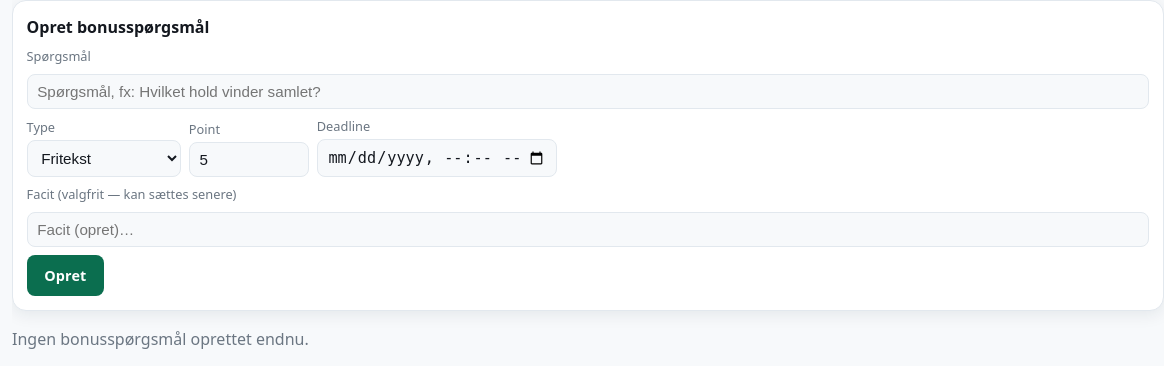
Scenario: BonusTab › skifter facit-input til tal ved type number
Select "Tal" in the dropdown with test id "bonus-new-type": (104, 159) [27, 140, 181, 177]
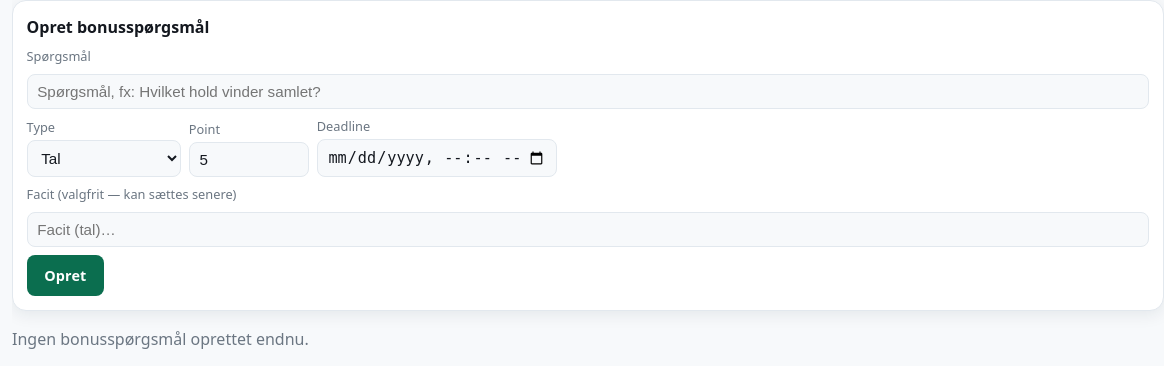
Result: the number field with test id "bonus-new-facit-number" is shown at [27, 212, 1149, 247]
